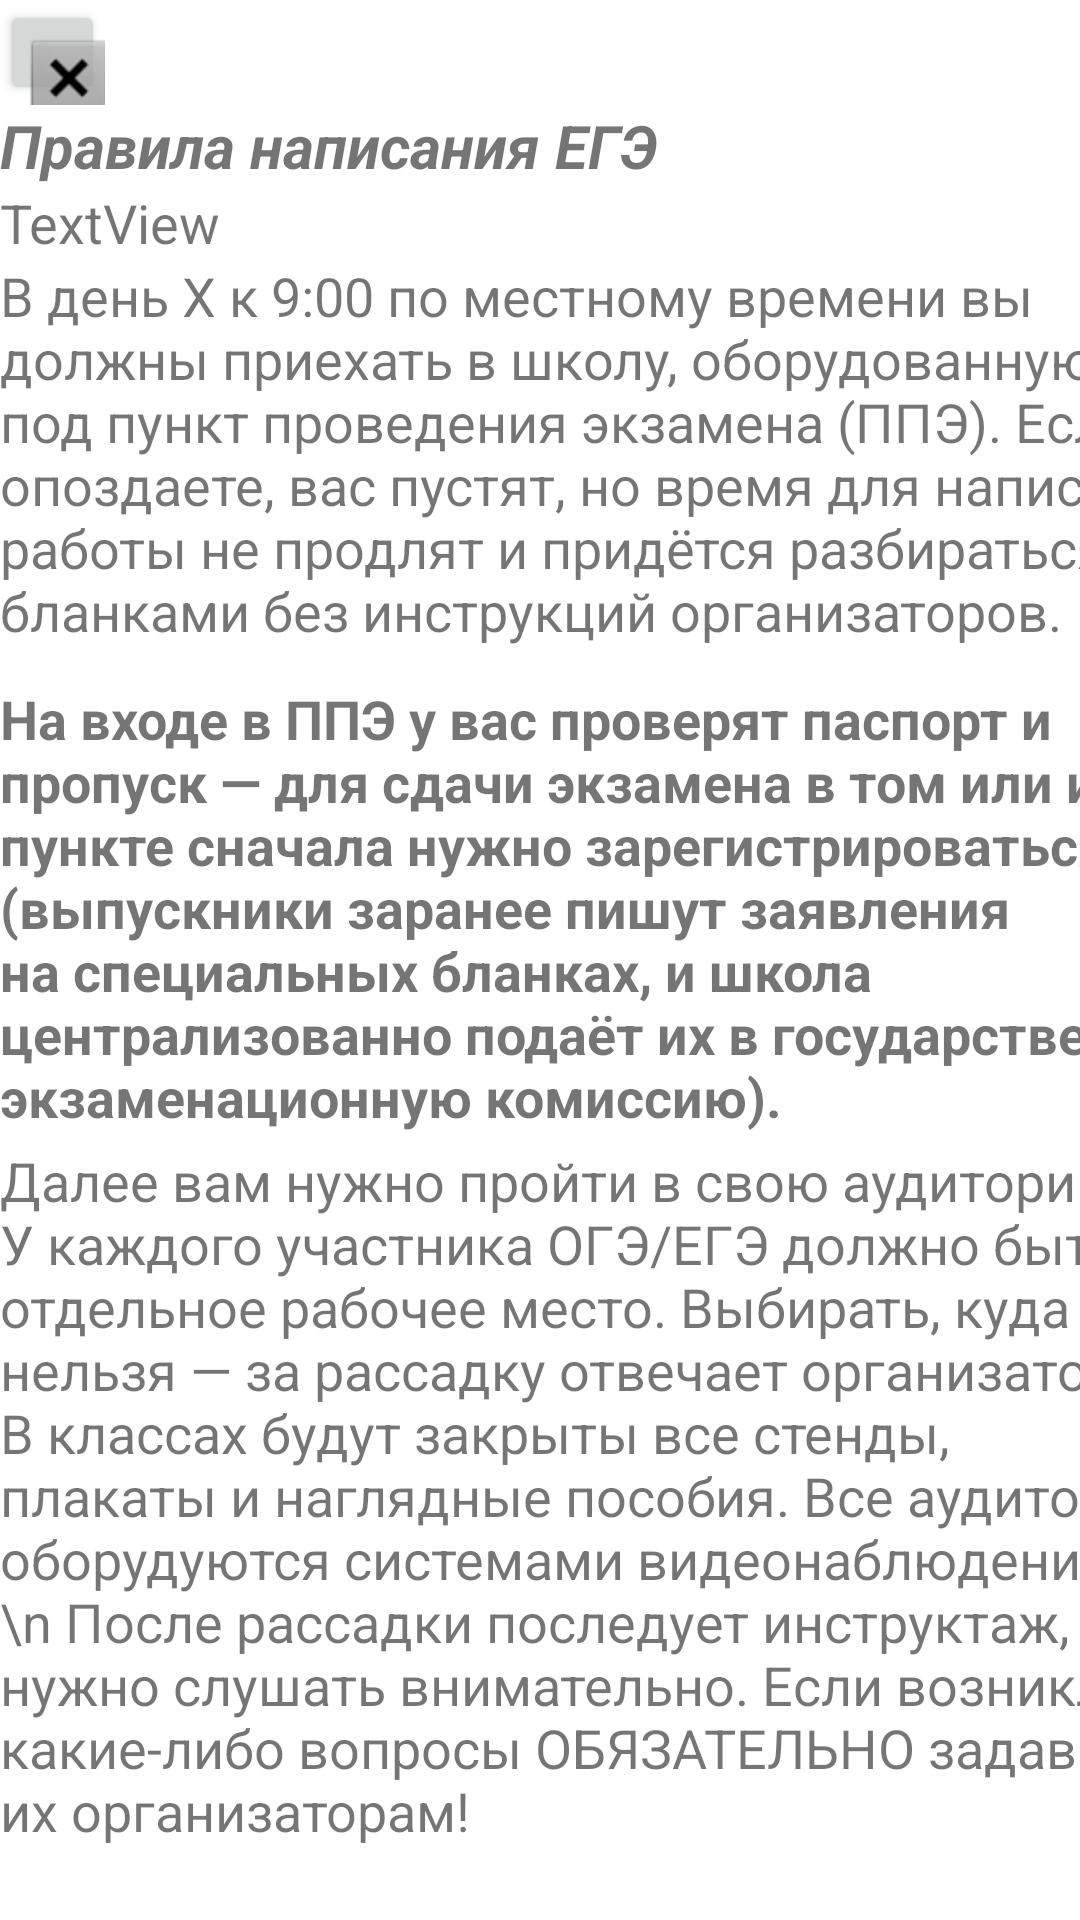

Icons on this 1080 × 1920 Android screen, each with its box as box(x1, y1, x2, y2):
close clear cancel: box(11, 18, 105, 105)
